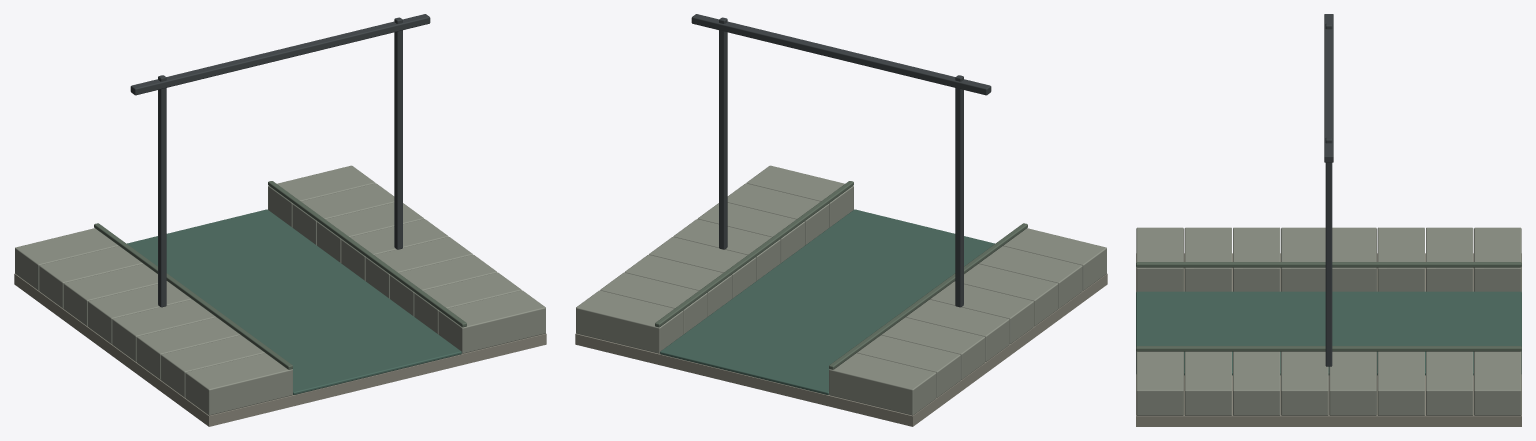
The model's file is undercity-sewers-and-thieves-den-grille-broken-809874d3__25034.glb.
3 renders of one model, left to right at view 1: azimuth 30°, elevation 25°; view 2: azimuth 150°, elevation 25°; view 3: azimuth 270°, elevation 25°, orthographic.
Parts seen in each view (by area): view 1: grille-broken; view 2: grille-broken; view 3: grille-broken.
Boxes of the visible parts, x1,y1,x2,y2 form: grille-broken: (14, 14, 546, 426); grille-broken: (575, 14, 1107, 426); grille-broken: (1136, 14, 1521, 426).
Bounding box in the file's own units: 4 × 3.02 × 4.
